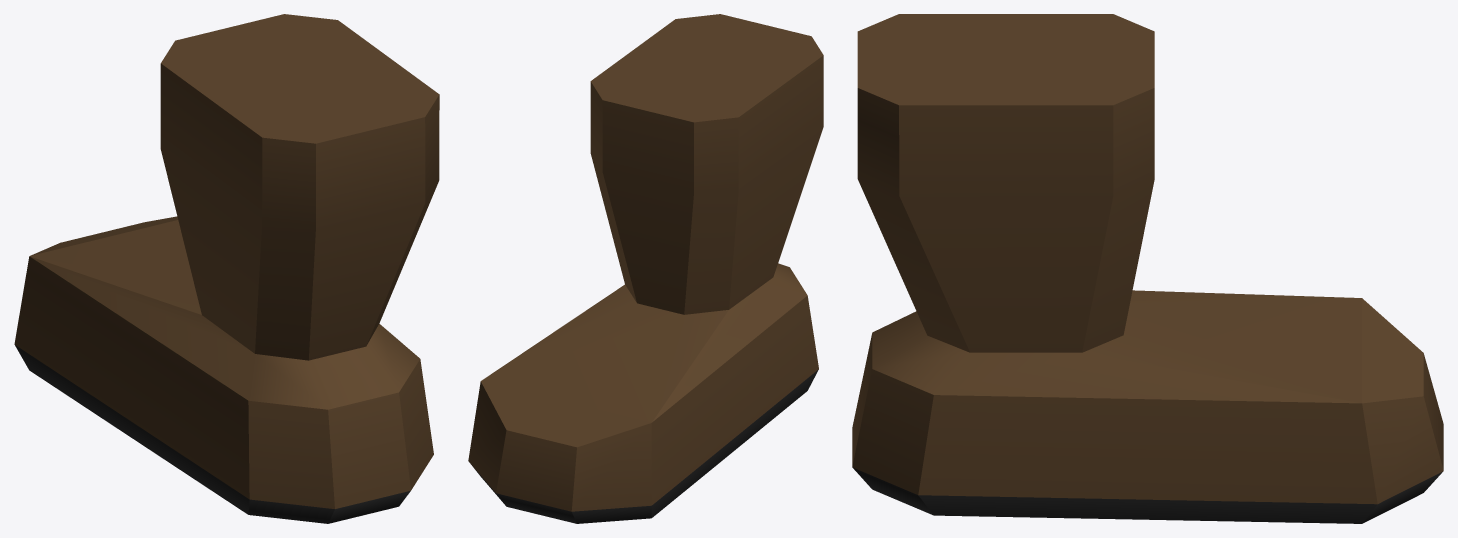
File: boot.fbx
The picture shows the model from 3 angles, left to right: view 1: azimuth 30°, elevation 25°; view 2: azimuth 150°, elevation 25°; view 3: azimuth 270°, elevation 25°; orthographic projection. The views are drawn at different scales.
Parts seen in each view (by area): view 1: pCube1; view 2: pCube1; view 3: pCube1.
Part boxes in pixels (x1=…): pCube1: x1=14, y1=14, x2=439, y2=523; pCube1: x1=468, y1=14, x2=823, y2=523; pCube1: x1=852, y1=14, x2=1443, y2=523.
Bounding box in the file's own units: 1.78 × 3.03 × 3.95.
1 material, 1 textured.
